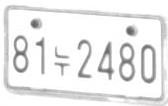0: (139, 43, 156, 84)
1: (32, 36, 50, 75)
2: (77, 39, 93, 78)
4: (97, 40, 115, 80)
8: (12, 34, 29, 73), (118, 42, 135, 81)
누: (53, 45, 70, 76)
